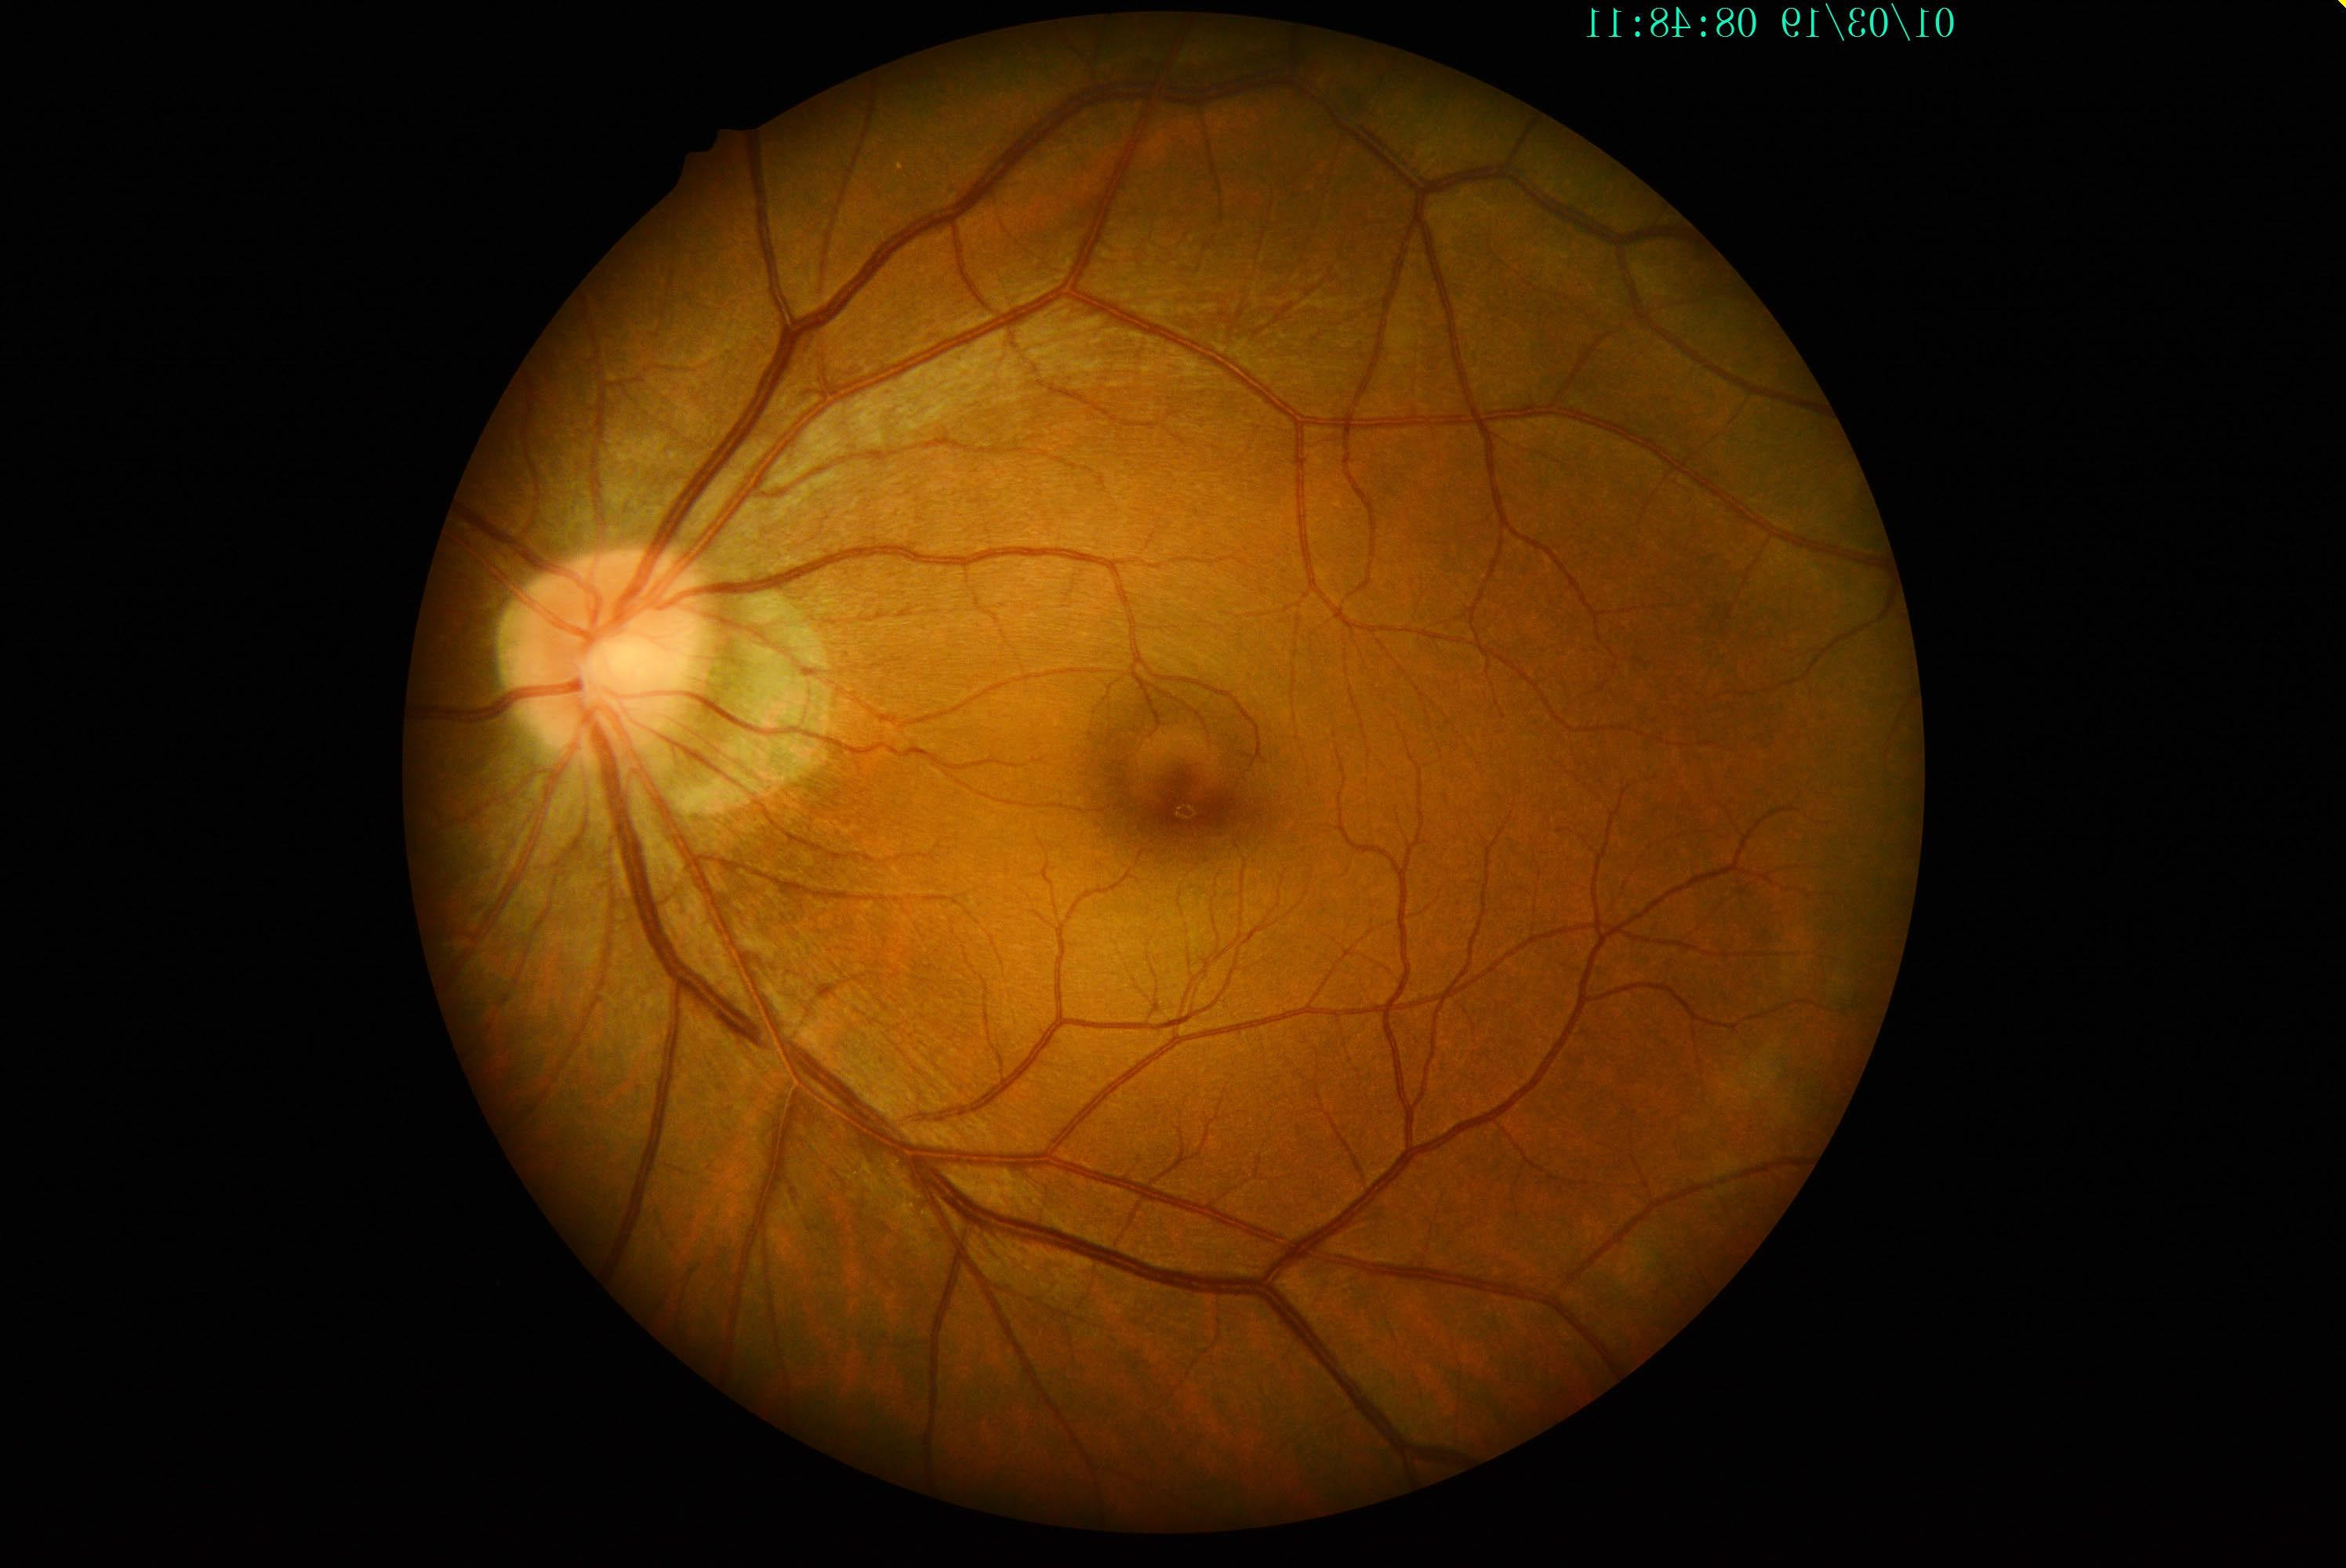Fovea: (1106, 728, 1256, 873)
